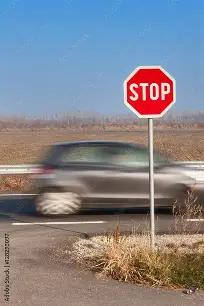Stop: (125, 68, 176, 116)
